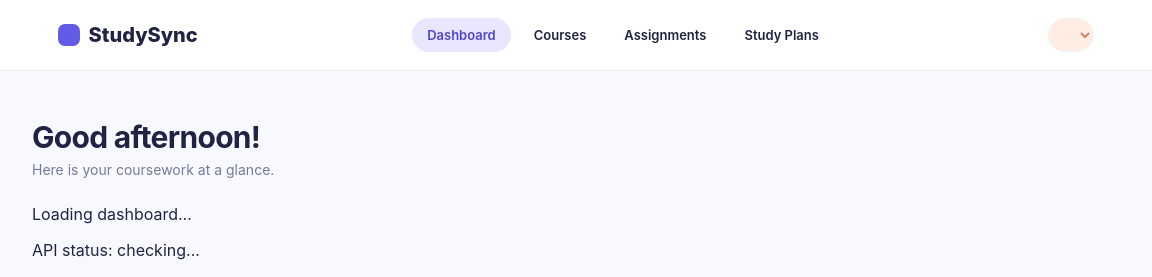
Test: opens the Courses page and displays its loading state
The width and height of the screenshot is (1152, 277).
Click the button "Courses": x=560, y=35 [519,18,601,52]
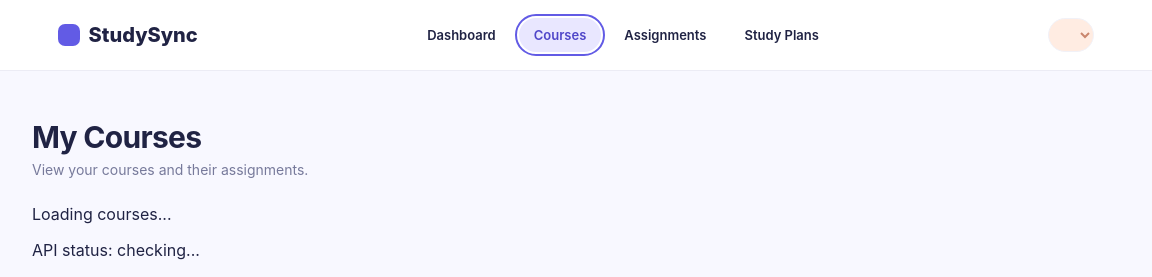
Check: the heading "My Courses" is shown, box [32,119,201,155]
Check: the text "Loading courses..." is shown, box [32,204,172,224]
